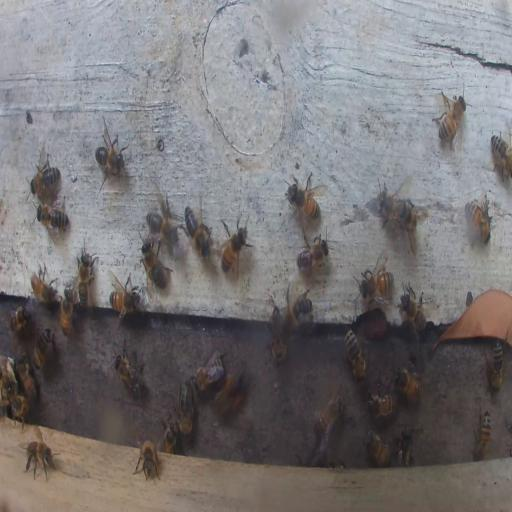bee: (94, 123, 127, 185), (434, 90, 467, 151), (377, 185, 415, 234), (398, 282, 431, 337), (140, 241, 173, 293), (311, 394, 342, 448), (220, 221, 250, 276), (182, 204, 211, 259), (146, 198, 180, 244), (285, 176, 322, 218), (28, 148, 60, 196), (22, 437, 56, 481), (114, 347, 144, 396), (356, 263, 393, 302), (76, 241, 97, 308), (390, 196, 419, 240), (297, 234, 330, 272), (192, 354, 225, 392), (133, 439, 161, 483), (34, 200, 69, 235), (216, 372, 245, 414), (466, 198, 492, 244), (345, 328, 367, 382), (110, 278, 140, 316), (490, 131, 512, 182), (472, 405, 492, 460), (30, 265, 58, 304), (284, 294, 314, 329), (364, 429, 392, 466), (17, 354, 39, 401), (393, 366, 421, 402), (178, 378, 194, 438), (32, 327, 54, 370), (366, 390, 398, 419), (266, 326, 287, 368), (395, 426, 414, 467), (8, 304, 32, 334), (60, 288, 74, 338), (490, 339, 504, 389), (161, 418, 179, 454), (1, 358, 15, 397), (10, 395, 28, 425)
